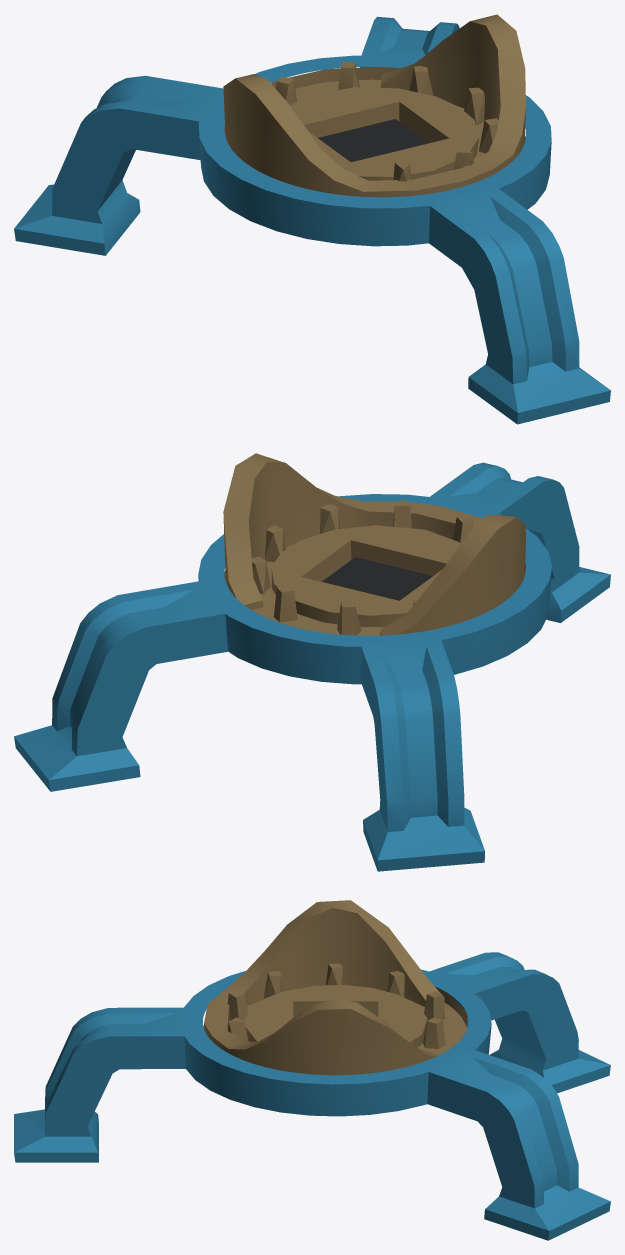
The model's file is fast-inserter-south.glb.
The picture shows the model from 3 angles, top to bottom: view 1: azimuth 30°, elevation 25°; view 2: azimuth 150°, elevation 25°; view 3: azimuth 270°, elevation 25°; orthographic projection. The views are drawn at different scales.
Parts seen in each view (by area): view 1: body; view 2: body; view 3: body.
Boxes of the visible parts, bbox=[...] form: body: bbox=[14, 14, 610, 424]; body: bbox=[14, 453, 610, 871]; body: bbox=[14, 900, 610, 1240].
Size of the model in its own units: 0.9131 by 0.415 by 1.18.
